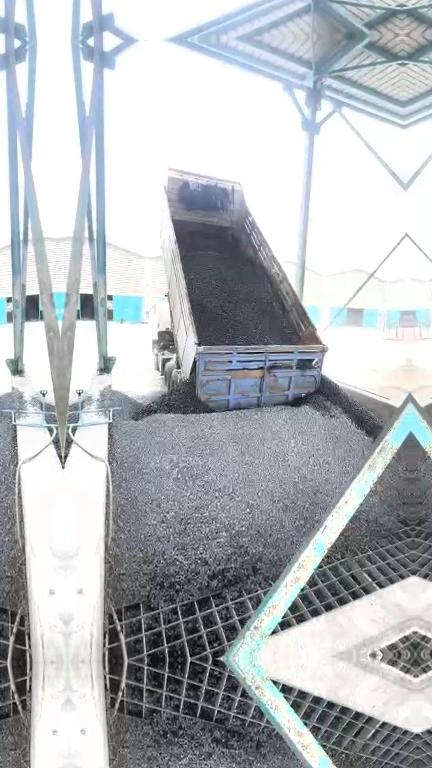gravel: (98, 371, 388, 595), (182, 239, 294, 339), (333, 432, 412, 546)
sand: (349, 358, 409, 399)
